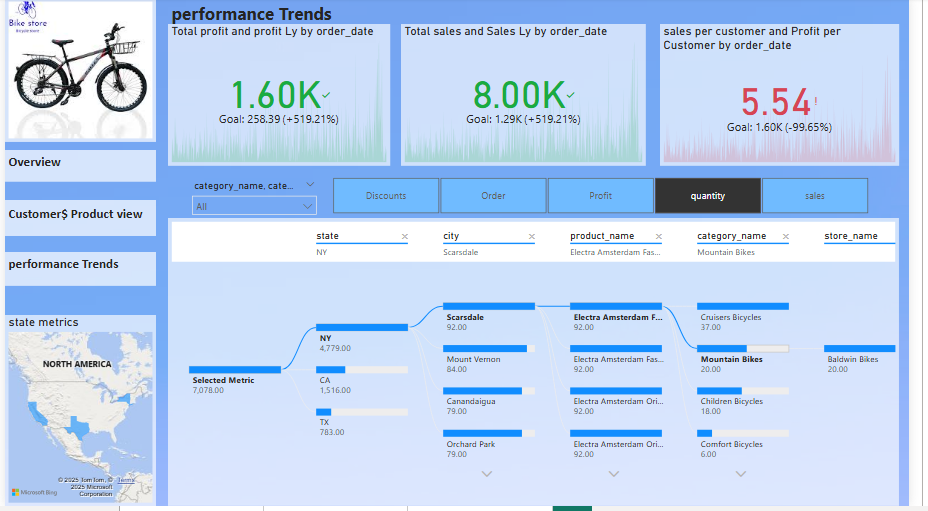

The page's visual inventory and layout, read from the dashboard file:
{"tool":"powerbi","page":{"name":"Duplicate of Page 1","canvas":[1280,720],"ordinal":2},"visuals":[{"type":"textbox","box":[231,0,314.6,46.8],"z":0},{"type":"slicer","fields":{"Values":["Metric Selector. Metric"]},"box":[439.4,248,807.9,63.8],"z":1000},{"type":"slicer","fields":{"Values":["production categories.category_name","production categories.category_name"]},"box":[255.1,252.3,197,56.7],"z":2000},{"type":"textbox","box":[0,215.4,214,45.4],"z":3000},{"type":"textbox","box":[0,286.3,214,51],"z":4000},{"type":"textbox","box":[0,360,214,48.2],"z":5000},{"type":"image","box":[0,0,214,204.1],"z":6000},{"type":"filledMap","title":"state metrics","fields":{"Category":["sales customers.state"]},"box":[0,449.3,214,270.7],"z":7000},{"type":"kpi","fields":{"Indicator":["MEASURE.Total profit"],"Goal":["MEASURE.profit Ly"],"TrendLine":["Calendar.order_date"]},"box":[231,36.9,314.6,201.3],"z":8000},{"type":"kpi","fields":{"TrendLine":["Calendar.order_date"],"Indicator":["MEASURE.Total sales"],"Goal":["MEASURE.Sales Ly"]},"box":[561.3,36.9,347.2,201.3],"z":9000},{"type":"kpi","fields":{"Indicator":["MEASURE.sales per customer"],"Goal":["MEASURE.Profit per Customer"],"TrendLine":["Calendar.order_date"]},"box":[928.3,36.9,338.7,201.3],"z":10000},{"type":"decompositionTreeVisual","fields":{"Analyze":["MEASURE.Selected Metric"],"ExplainBy":["sales customers.state","sales customers.city","udfproductInYear.product_name","production categories.category_name","sales stores.store_name"]},"box":[231,311.8,1036.1,408.2],"z":11000}]}

Visuals, with their boxes in screenshot pixels (x1, y1, x2, y2), scaled from the page's 1280x720 canvas onto the 928x511 screenshot:
textbox: rect(167, 0, 396, 33)
slicer - Metric Selector. Metric: rect(319, 176, 904, 221)
slicer - production categories.category_name x production categories.category_name: rect(185, 179, 328, 219)
textbox: rect(0, 153, 155, 185)
textbox: rect(0, 203, 155, 239)
textbox: rect(0, 256, 155, 290)
image: rect(0, 0, 155, 145)
"state metrics" filledMap: rect(0, 319, 155, 510)
kpi - MEASURE.Total profit x MEASURE.profit Ly: rect(167, 26, 396, 169)
kpi - Calendar.order_date x MEASURE.Total sales: rect(407, 26, 659, 169)
kpi - MEASURE.sales per customer x MEASURE.Profit per Customer: rect(673, 26, 919, 169)
decompositionTreeVisual - MEASURE.Selected Metric x sales customers.state: rect(167, 221, 919, 510)
